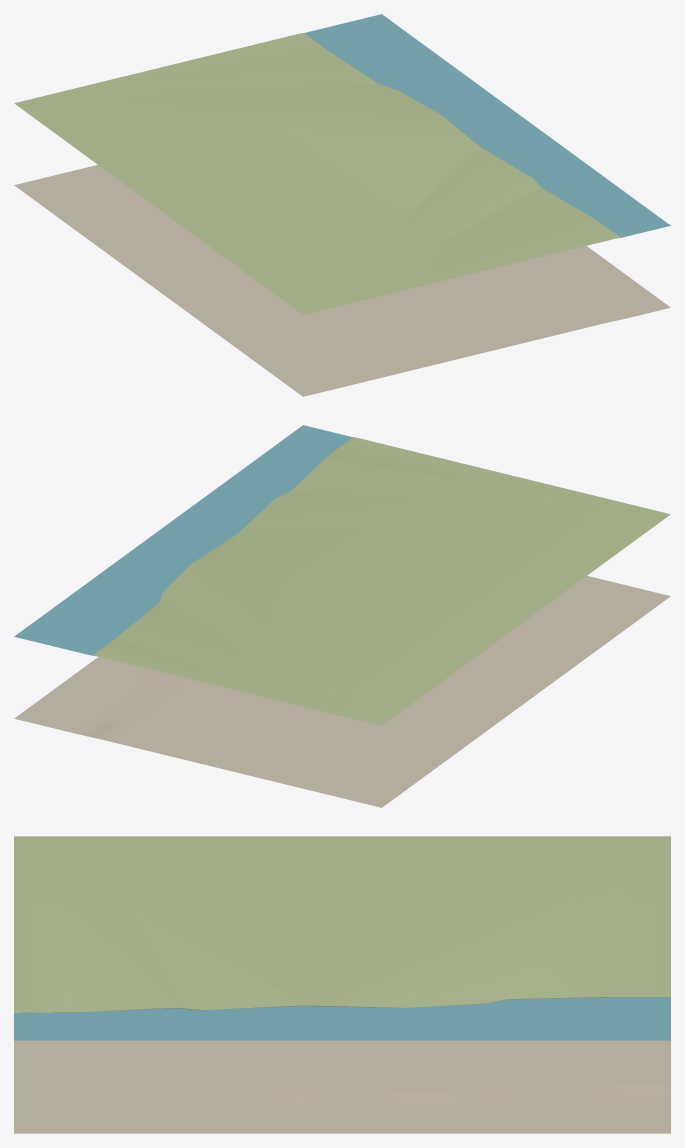
The picture shows the model from 3 angles, top to bottom: view 1: azimuth 30°, elevation 25°; view 2: azimuth 150°, elevation 25°; view 3: azimuth 270°, elevation 25°; orthographic projection. The views are drawn at different scales.
Visible parts, largest first — view 1: s_-13_4__grass, s_-13_4__soil, s_-13_4__water; view 2: s_-13_4__grass, s_-13_4__soil, s_-13_4__water; view 3: s_-13_4__grass, s_-13_4__soil, s_-13_4__water, s_-13_4__shore_bank.
Part boxes in pixels (x1,y1,x2,y2): s_-13_4__grass: (14,33,620,314); s_-13_4__soil: (14,165,670,396); s_-13_4__water: (304,14,670,237); s_-13_4__grass: (92,437,670,725); s_-13_4__soil: (14,576,670,807); s_-13_4__water: (14,425,352,655); s_-13_4__grass: (14,836,670,1012); s_-13_4__soil: (14,1040,670,1133); s_-13_4__water: (14,997,670,1040); s_-13_4__shore_bank: (20,997,670,1012).
Size of the model in its own units: 94 by 20.14 by 128.
